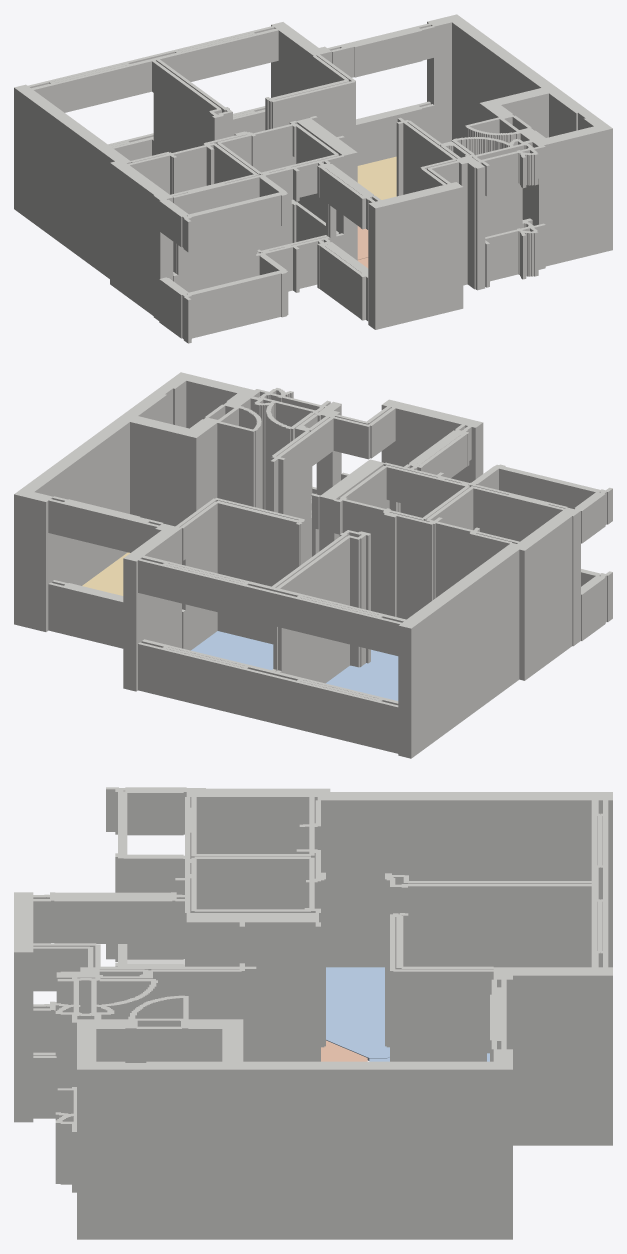
3 renders of one model, top to bottom at view 1: azimuth 30°, elevation 25°; view 2: azimuth 150°, elevation 25°; view 3: azimuth 270°, elevation 25°, orthographic. The views are drawn at different scales.
Parts seen in each view (by area): view 1: walls, room:living:2; view 2: walls, room:bedroom:0, room:bedroom:1, room:living:2; view 3: walls, room:bedroom:0, room:kitchen:6.
Part boxes in pixels (x1,y1,x2,y2): walls: (14,14,612,343); room:living:2: (357,156,396,199); walls: (14,372,612,758); room:bedroom:0: (326,649,398,700); room:bedroom:1: (191,631,273,670); room:living:2: (82,552,130,595); walls: (14,787,612,1239); room:bedroom:0: (326,967,389,1060); room:kitchen:6: (321,1040,367,1061).
Size of the model in its own units: 9.98 by 2.8 by 8.94.
